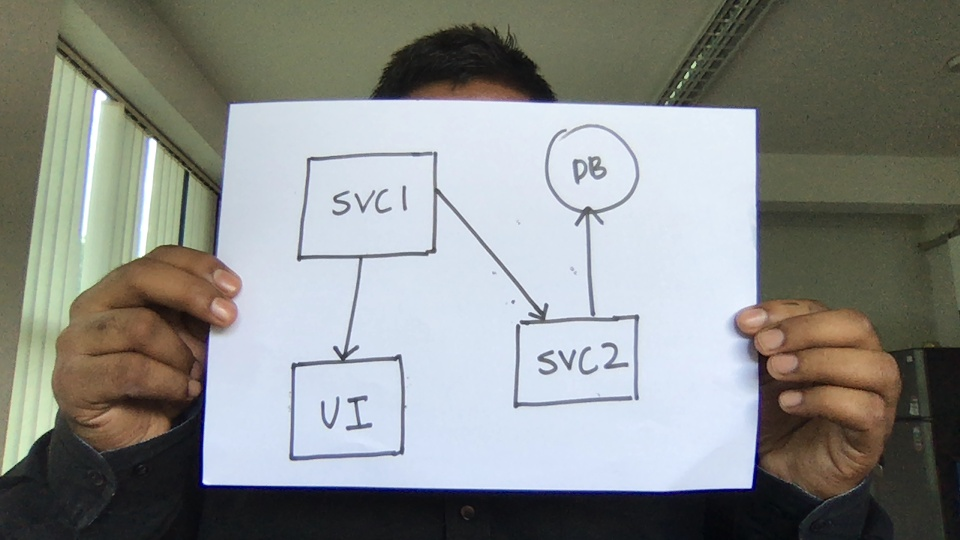db: (542, 120, 642, 223)
ec2: (294, 148, 445, 271), (507, 304, 647, 421)
ui: (282, 350, 413, 465)
